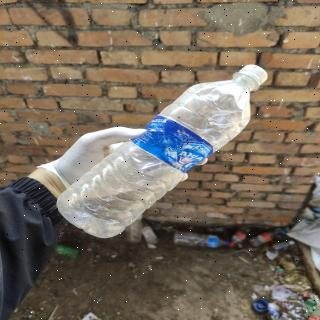Plastic-bottle: (57, 61, 272, 242)
